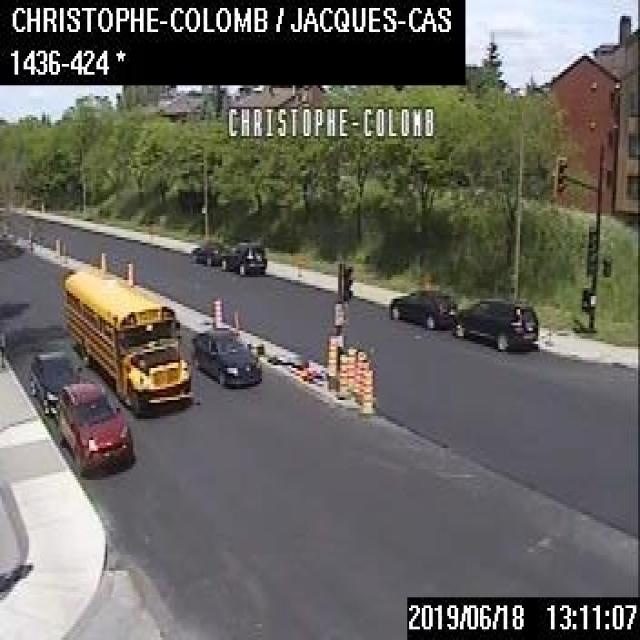bus: (62, 267, 190, 411)
construction: (360, 366, 374, 416), (357, 358, 370, 403), (335, 351, 347, 397), (344, 344, 356, 389), (324, 334, 336, 376), (356, 348, 366, 390), (294, 363, 314, 376), (212, 296, 220, 326), (98, 248, 107, 270), (124, 259, 132, 280), (54, 235, 59, 258)
vehicle: (57, 376, 132, 475), (451, 294, 537, 350), (193, 326, 260, 383), (28, 349, 84, 413), (387, 285, 456, 328), (219, 240, 266, 272), (190, 238, 227, 264)
